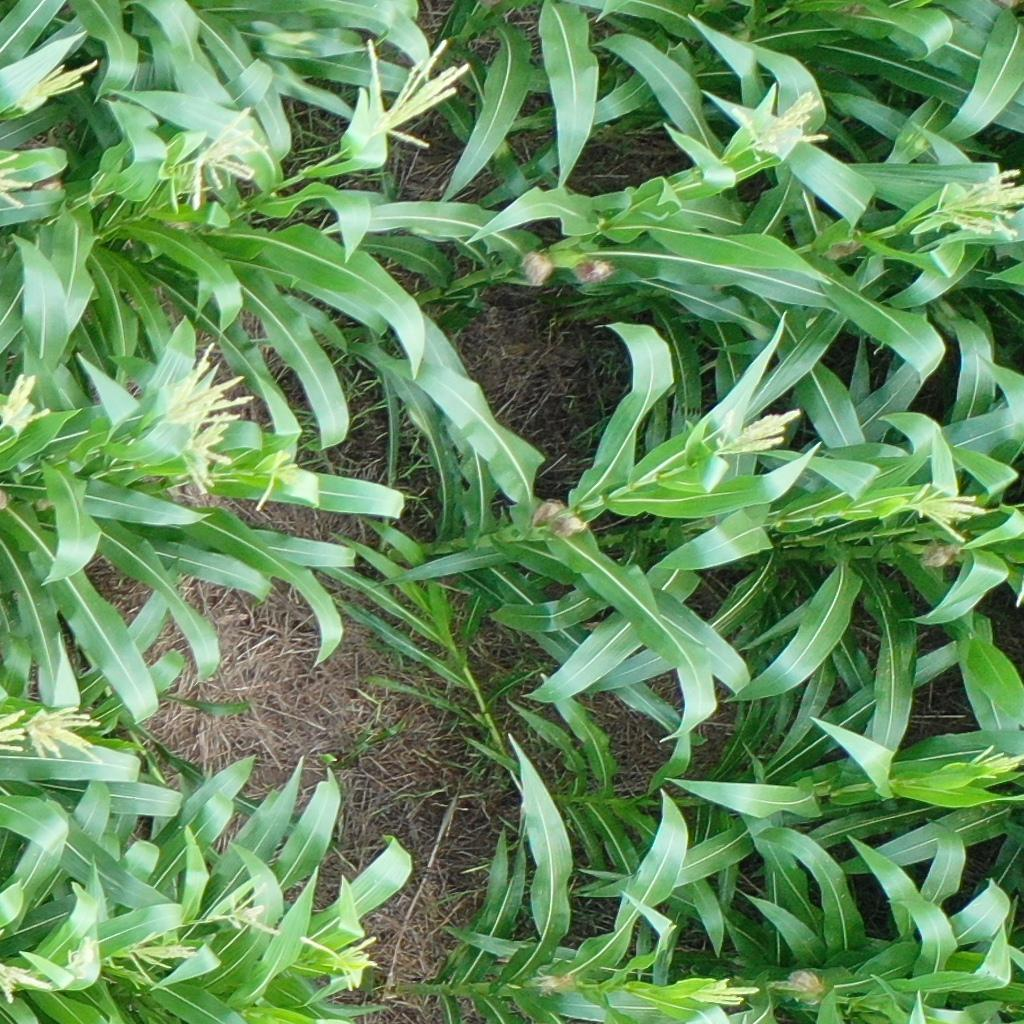Tassel: (359, 30, 472, 151), (174, 103, 271, 207), (160, 341, 255, 427), (726, 85, 828, 158), (933, 165, 1024, 246), (901, 478, 985, 553), (711, 404, 798, 464), (300, 924, 378, 988), (29, 703, 108, 766), (175, 417, 237, 496), (125, 925, 197, 989), (26, 56, 101, 106), (1, 370, 54, 436), (223, 882, 283, 940), (252, 446, 304, 510), (688, 975, 762, 1008), (1, 961, 56, 1005), (965, 741, 1024, 781), (1, 148, 36, 211), (62, 930, 103, 981), (1, 707, 30, 759)
